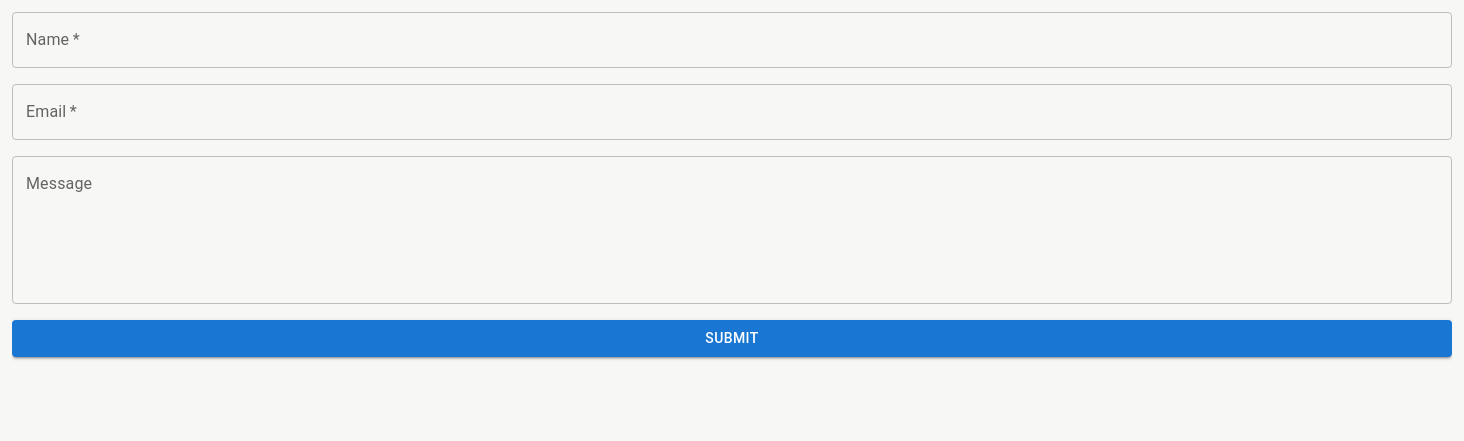
Scenario: ContactForm › posts form data and shows success
Type "Ada Lovelace" into the field labelled "Name *" at (732, 40), box [12,12,1452,68]
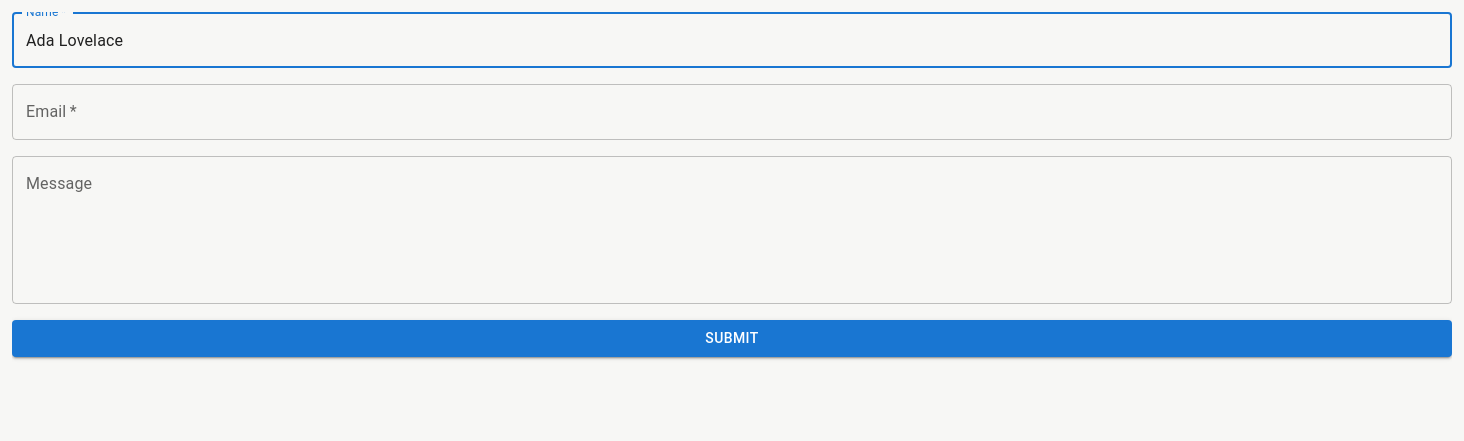
Type "ada@example.com" into the field labelled "Email *" at (732, 112), box [12,84,1452,140]
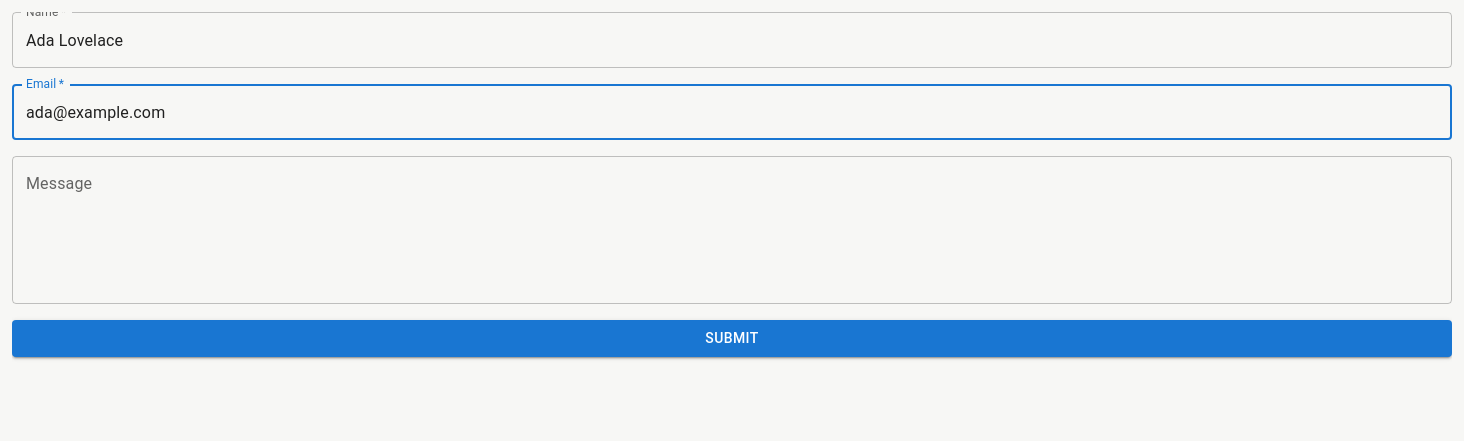
Type "Hello from Ideal." into the text box labelled "Message" at (732, 230), box [26,172,1438,288]
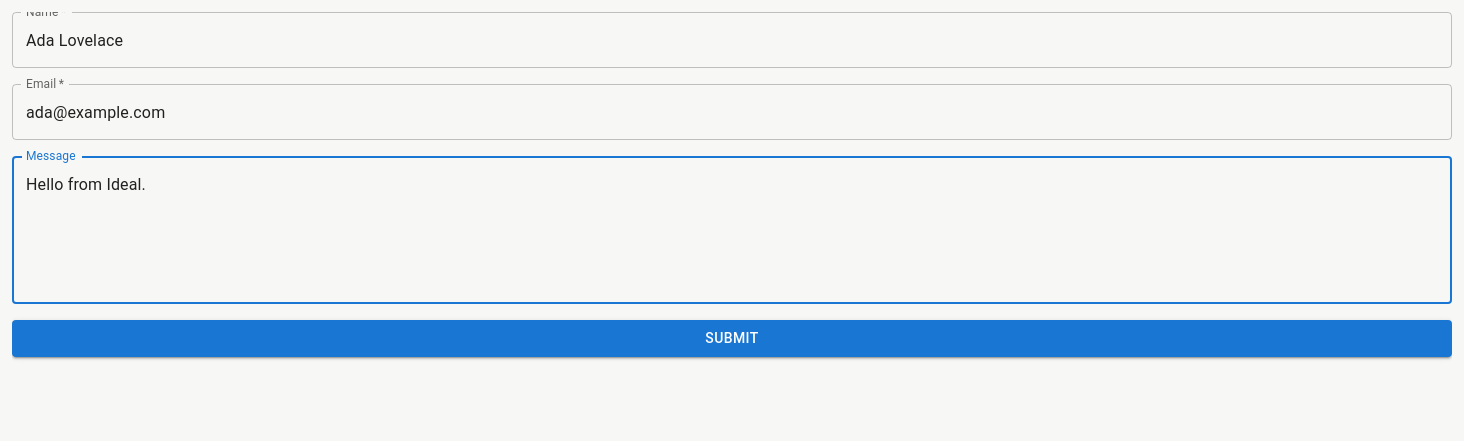
Click the button "Submit" at (732, 338), box [12,320,1452,356]
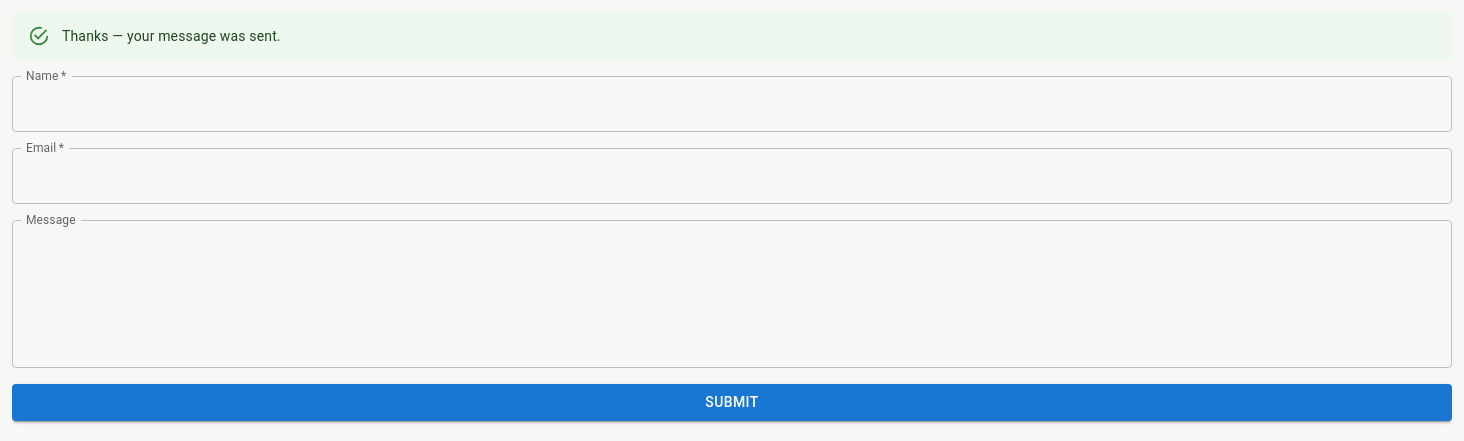
expect the text "Thanks — your message was sent." is shown: met, box [62,28,281,44]
expect the field labelled "Name *" is empty: met, box [12,76,1452,132]
expect the field labelled "Email *" is empty: met, box [12,148,1452,204]
